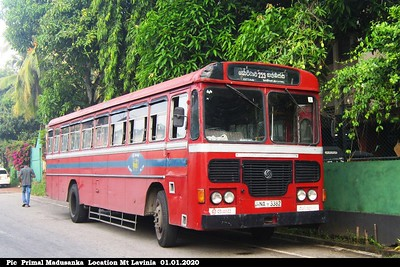bus: (43, 60, 326, 247)
